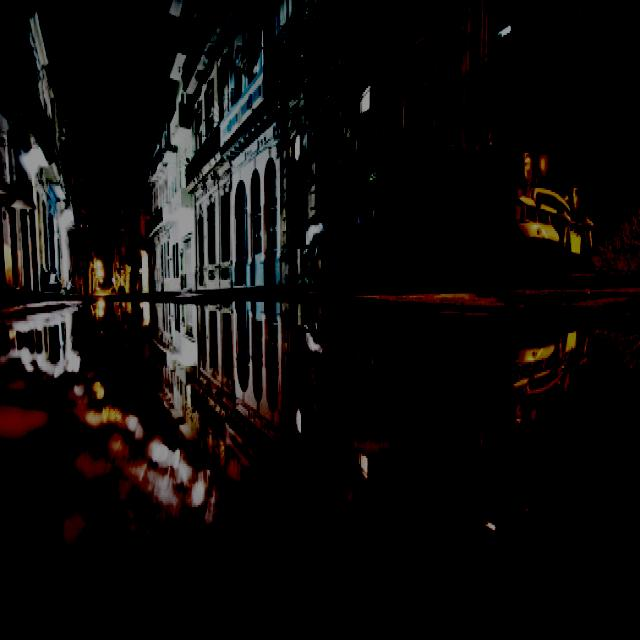Car: (306, 125, 593, 284)
